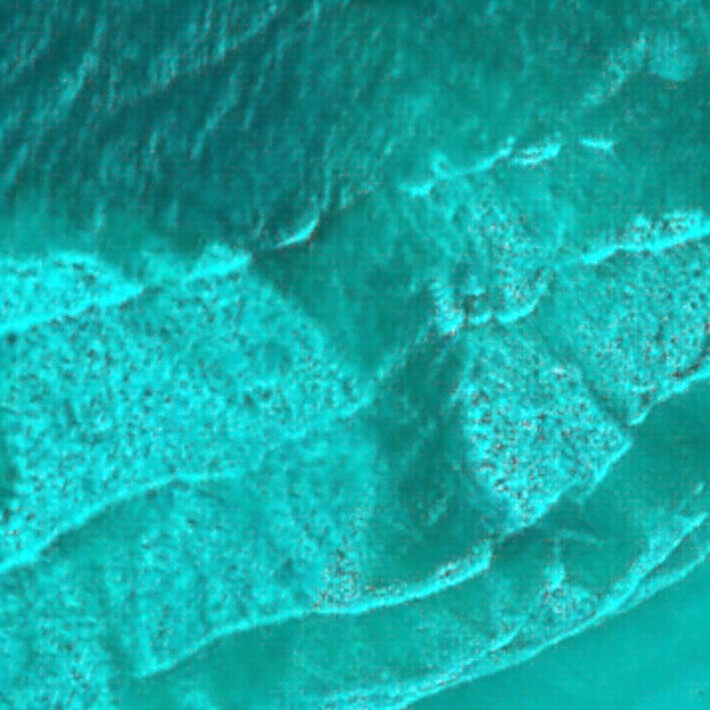rip_current: (201, 141, 533, 558)
